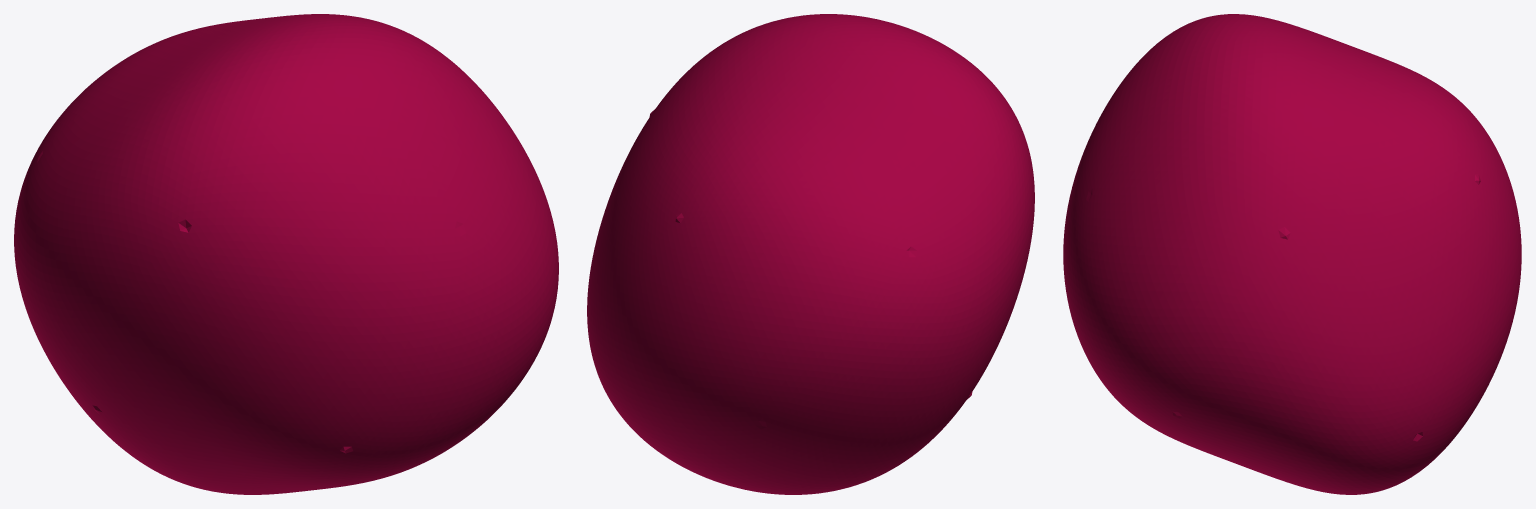
Rendered from Blobbie-05.dae.
The picture shows the model from 3 angles, left to right: view 1: azimuth 30°, elevation 25°; view 2: azimuth 150°, elevation 25°; view 3: azimuth 270°, elevation 25°; orthographic projection. The views are drawn at different scales.
Visible parts, largest first — view 1: Blobbie; view 2: Blobbie; view 3: Blobbie.
Part boxes in pixels (left/top/right/bottom): Blobbie: left=14, top=14, right=558, bottom=494; Blobbie: left=587, top=14, right=1034, bottom=494; Blobbie: left=1063, top=14, right=1521, bottom=494.
Size of the model in its own units: 2.03 by 2.01 by 2.07.
